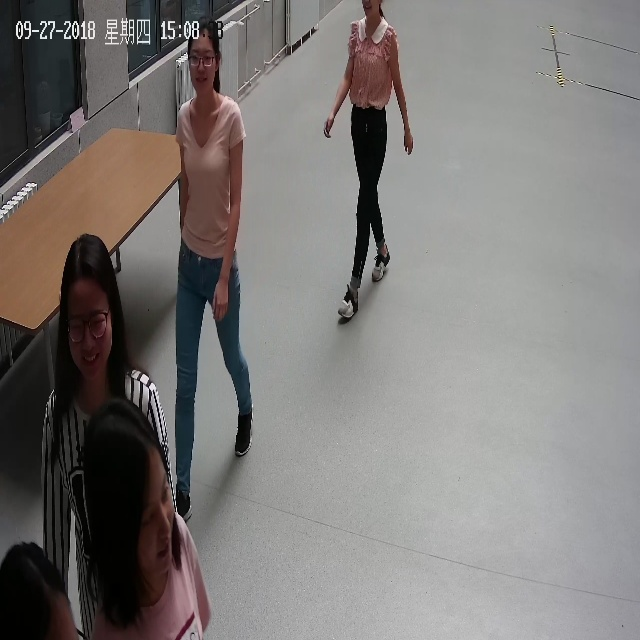head: (66, 406, 195, 607), (58, 230, 126, 381), (1, 536, 74, 635), (182, 17, 231, 95), (358, 0, 390, 28)
